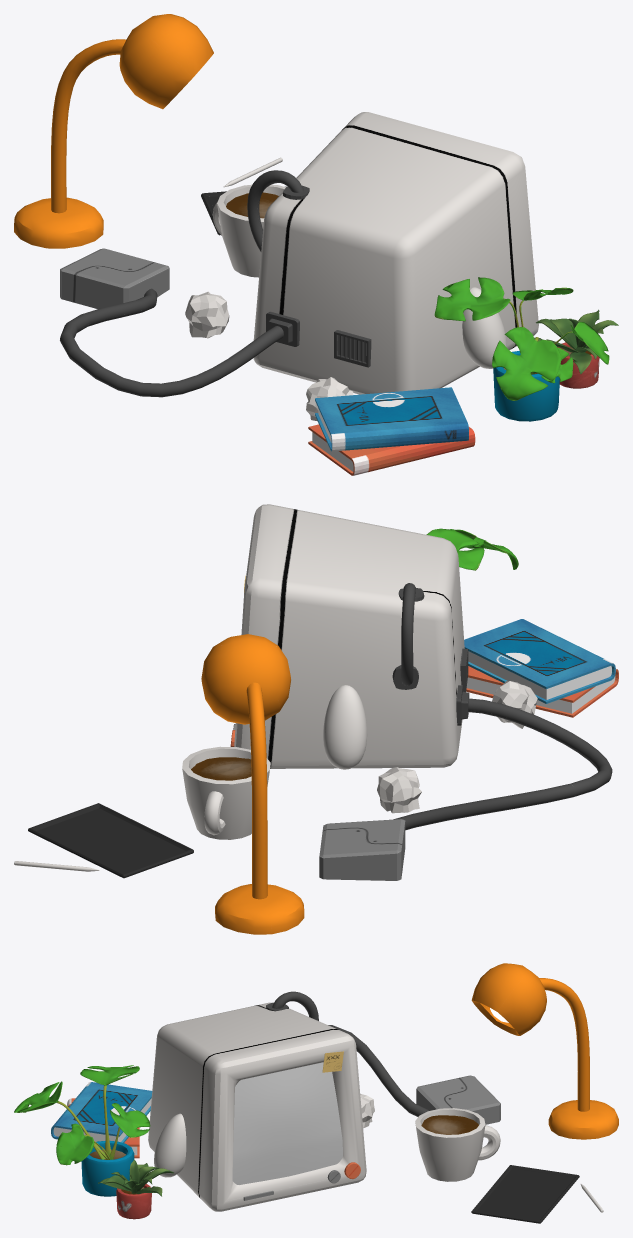
3 views of the same model, one above another, from view 1: azimuth 30°, elevation 25°; view 2: azimuth 150°, elevation 25°; view 3: azimuth 270°, elevation 25° (orthographic). The views are drawn at different scales.
Parts seen in each view (by area): view 1: Cube.060, Plane.009, Cube.055, Cube.053, back.019, back.018, Cube.052, BezierCurve.002, mug.005, Plane.008, Cylinder.012, Cube.061 (+8 smaller); view 2: Cube.060, Cube.048, Plane.009, Cube.053, back.019, back.018, mug.005, Cube.052, BezierCurve.002, Cube.061, Cube.051, Plane.010 (+6 smaller); view 3: Cube.060, Display.005, Cube.055, Cube.048, mug.005, Cube.053, Plane.009, back.018, Cube.052, BezierCurve.002, Cylinder.012, Cube.061 (+9 smaller).
Boxes of the visible parts, x1,y1,x2,y2 form: Cube.060: (253, 112, 538, 394); Plane.009: (315, 387, 468, 451); Cube.055: (434, 277, 609, 400); Cube.053: (119, 14, 213, 109); back.019: (60, 288, 283, 397); back.018: (60, 248, 169, 308); Cube.052: (14, 197, 103, 248); BezierCurve.002: (51, 39, 125, 213); mug.005: (212, 184, 285, 277); Plane.008: (308, 424, 475, 475); Cylinder.012: (493, 351, 559, 421); Cube.061: (462, 287, 506, 368); Cube.060: (234, 504, 466, 768); Cube.048: (28, 803, 193, 878); Plane.009: (464, 619, 615, 703); Cube.053: (201, 634, 290, 724); back.019: (393, 698, 612, 830); back.018: (319, 819, 405, 880); mug.005: (182, 746, 270, 839); Cube.052: (215, 884, 304, 934); BezierCurve.002: (246, 682, 267, 899); Cube.061: (323, 685, 367, 769); Cube.051: (377, 767, 421, 813); Plane.010: (468, 651, 611, 699); Cube.060: (148, 1002, 366, 1211); Display.005: (232, 1062, 342, 1184); Cube.055: (14, 1065, 150, 1165); Cube.048: (471, 1165, 579, 1223); mug.005: (415, 1108, 500, 1181); Cube.053: (471, 963, 546, 1035); Plane.009: (51, 1082, 152, 1142); back.018: (416, 1075, 500, 1124); Cube.052: (548, 1100, 618, 1139); BezierCurve.002: (539, 978, 589, 1111); Cylinder.012: (81, 1141, 134, 1196); Cube.061: (154, 1113, 186, 1177).
Bounding box in the file's own units: 5.15 × 2.66 × 7.93.
